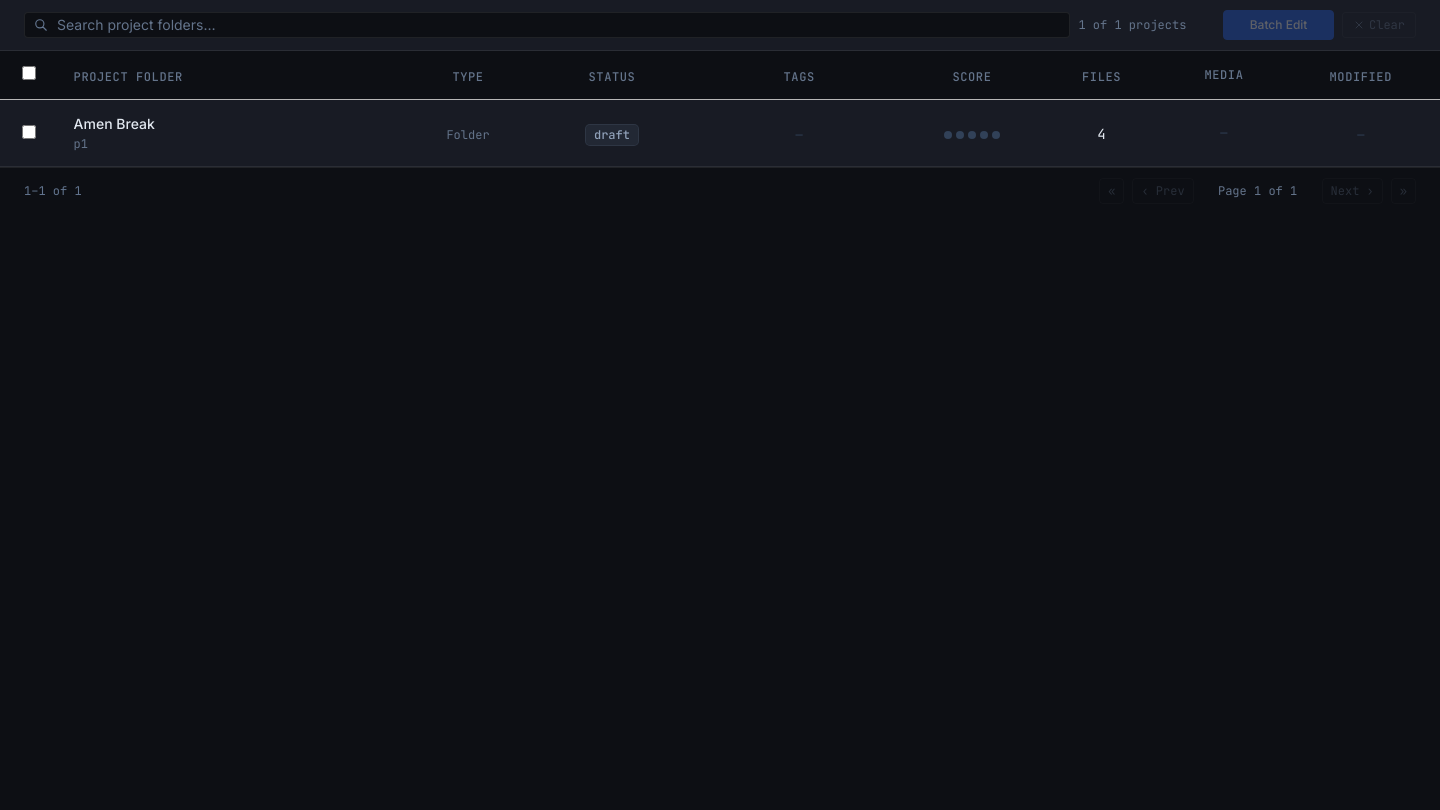
Test: CustomProjectsTabPanel - Copy/Move/Delete wiring › opens the CopyMoveDeleteDialog with the correct operation/title when Move is clicked from the detail panel
Click the text "Amen Break" at [114, 124], box left=74, top=114, right=155, bottom=134
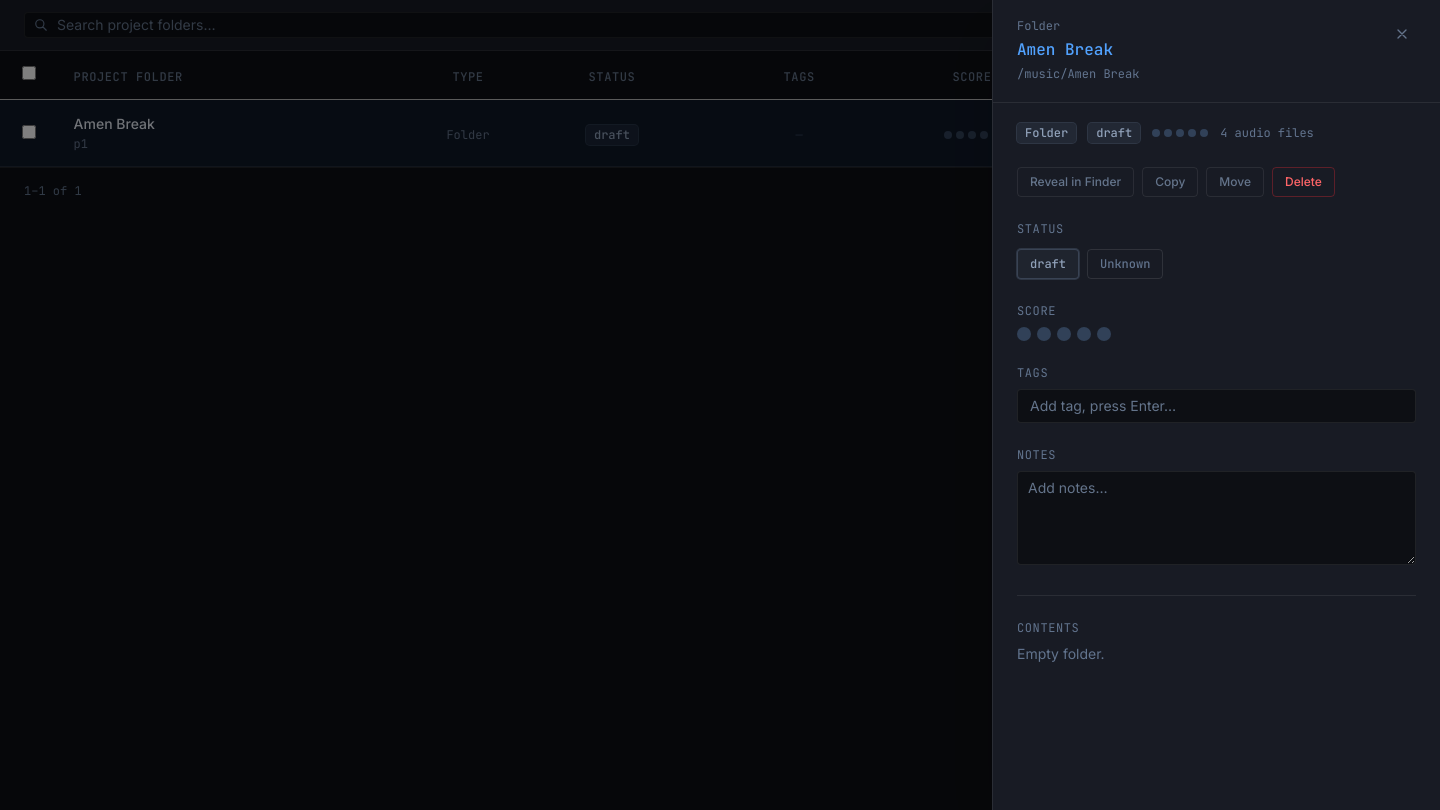
Click the button "Move" at [1235, 182], box left=1206, top=167, right=1264, bottom=197
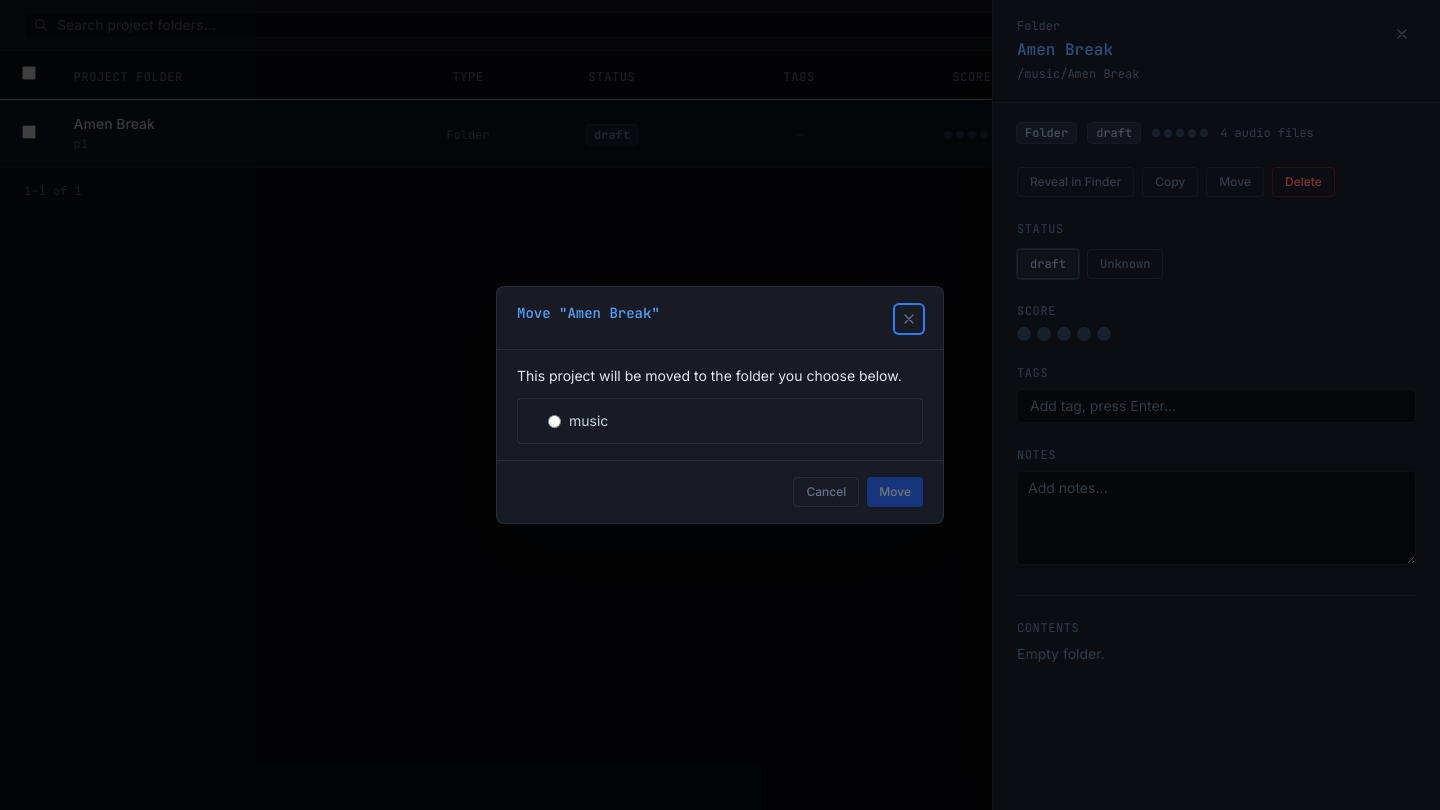
Expected: the dialog "Move \"Amen Break\"" is shown, left=496, top=286, right=944, bottom=524
